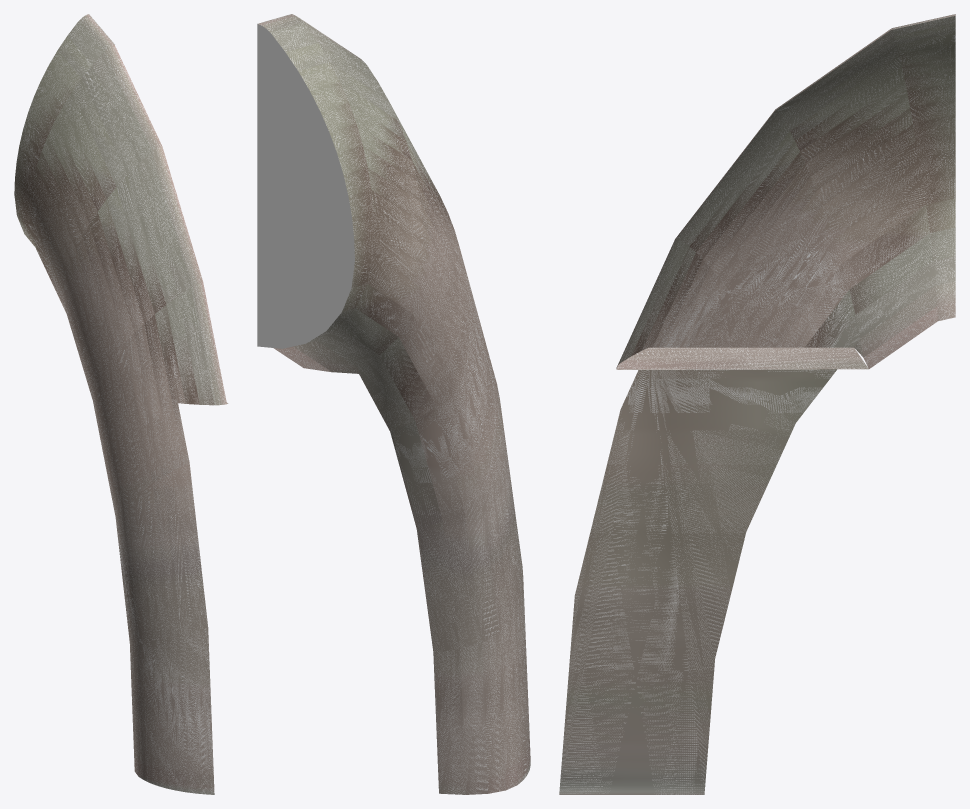
File: original-76.obj
The picture shows the model from 3 angles, left to right: view 1: azimuth 30°, elevation 25°; view 2: azimuth 150°, elevation 25°; view 3: azimuth 270°, elevation 25°; orthographic projection. The views are drawn at different scales.
Parts seen in each view (by area): view 1: Quarter_handle1/Quarter_handle/mesh118/mesh118-geometry#mesh118-; view 2: Quarter_handle1/Quarter_handle/mesh118/mesh118-geometry#mesh118-; view 3: Quarter_handle1/Quarter_handle/mesh118/mesh118-geometry#mesh118-.
Boxes of the visible parts, x1,y1,x2,y2 form: Quarter_handle1/Quarter_handle/mesh118/mesh118-geometry#mesh118-: (14, 14, 228, 794); Quarter_handle1/Quarter_handle/mesh118/mesh118-geometry#mesh118-: (257, 14, 530, 794); Quarter_handle1/Quarter_handle/mesh118/mesh118-geometry#mesh118-: (559, 14, 955, 794).
Size of the model in its own units: 0.00922 by 0.0761 by 0.0341.
